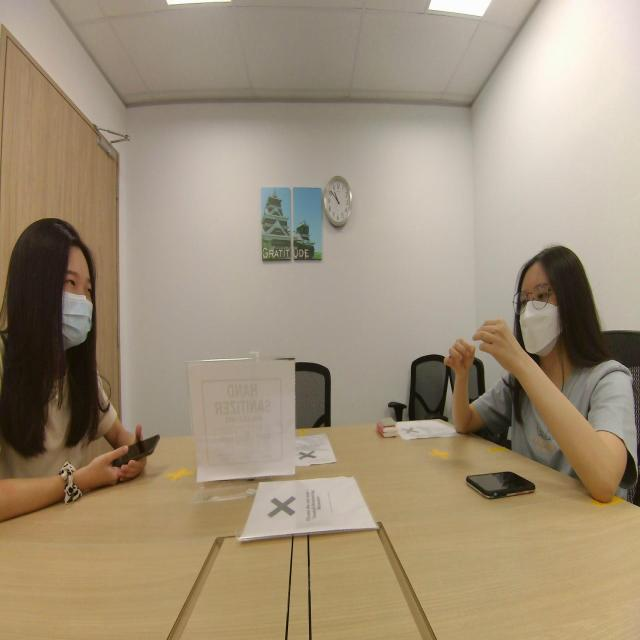obstacle: (500, 187, 620, 478), (15, 195, 110, 450)
